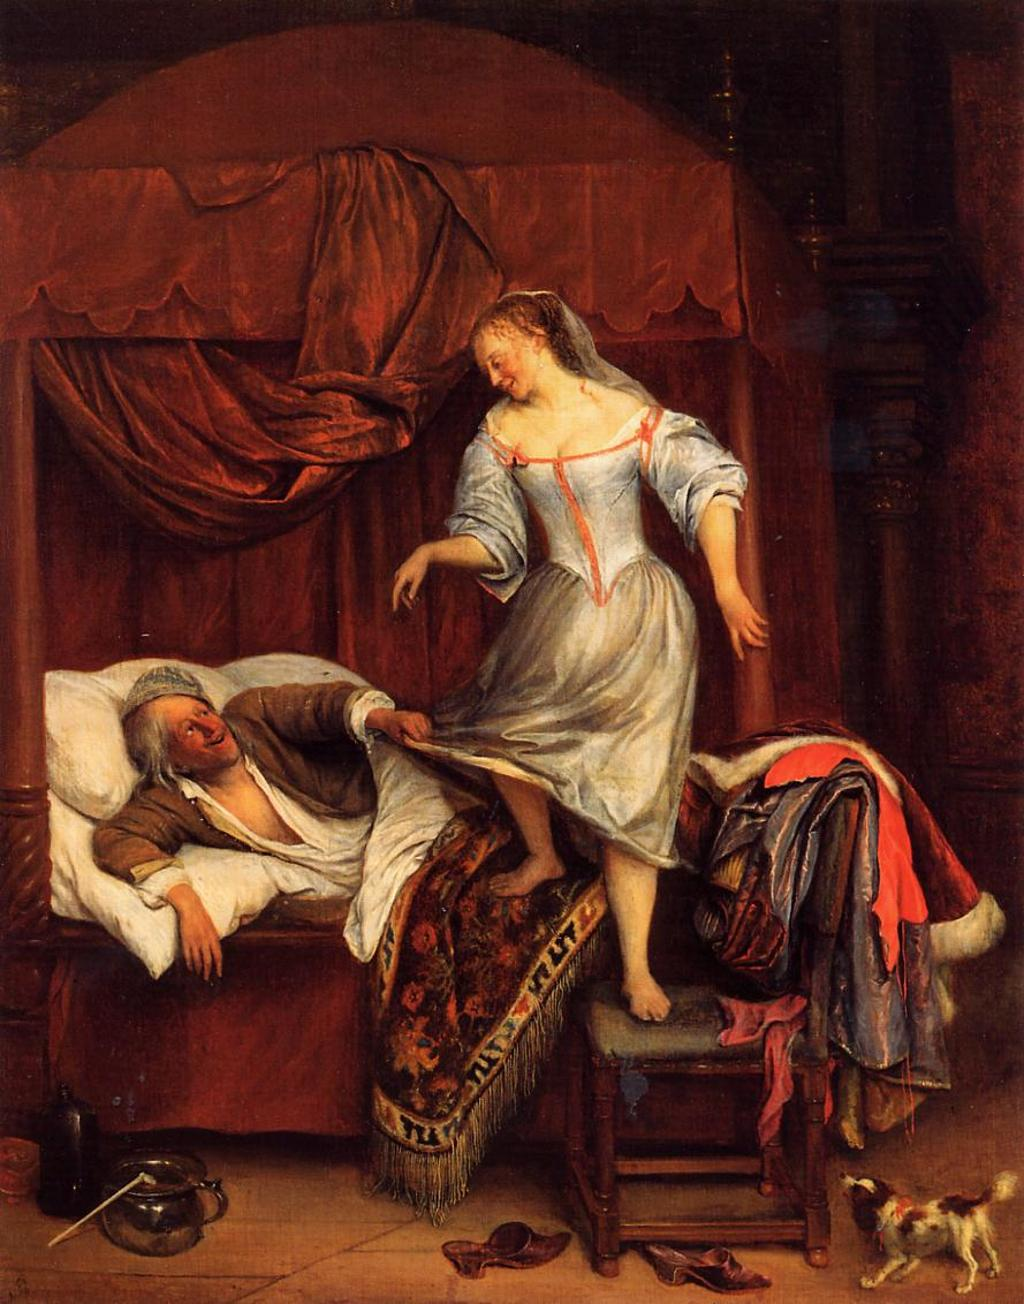face: (158, 693, 240, 767), (469, 329, 533, 398)
